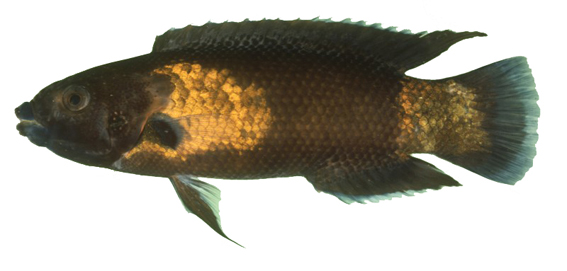fish: (13, 14, 541, 248)
